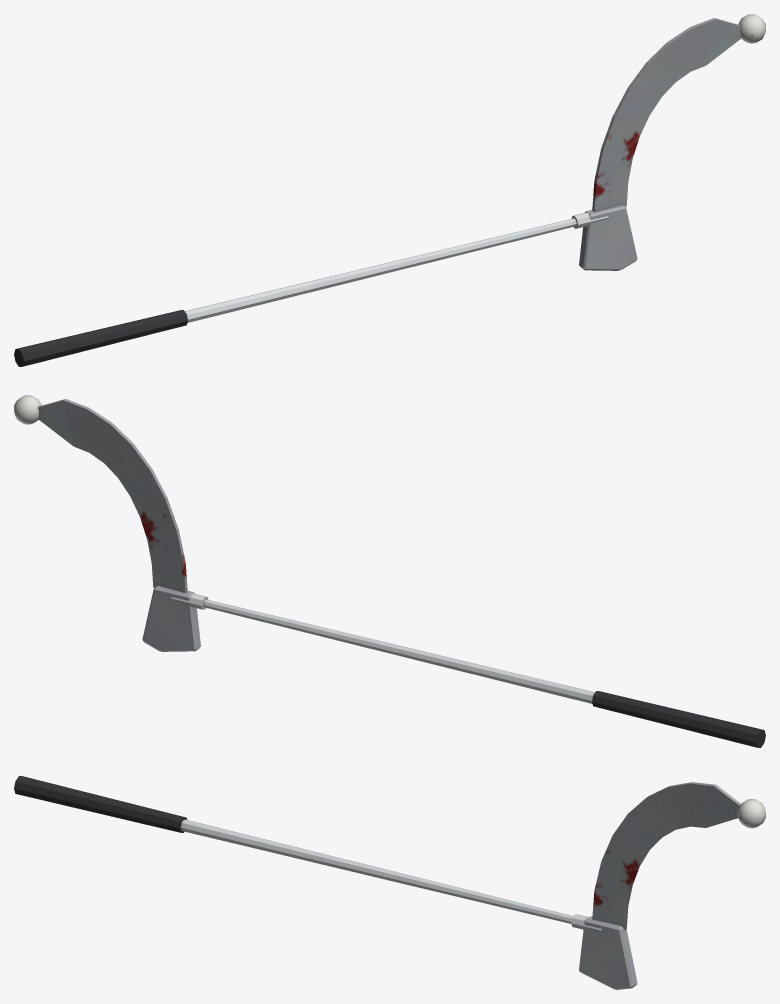
The model's file is AC_GuadanaGolf.fbx.
3 views of the same model, one above another, from view 1: azimuth 30°, elevation 25°; view 2: azimuth 150°, elevation 25°; view 3: azimuth 330°, elevation 25° (orthographic).
Parts seen in each view (by area): view 1: AC_GuadanaGolf; view 2: AC_GuadanaGolf; view 3: AC_GuadanaGolf.
Part boxes in pixels (bbox=[...]): AC_GuadanaGolf: bbox=[14, 14, 765, 366]; AC_GuadanaGolf: bbox=[14, 395, 765, 747]; AC_GuadanaGolf: bbox=[14, 776, 765, 989].
Size of the model in its own units: 1.22 by 0.3543 by 0.0409.
Materials: 1 (1 with a texture image).
